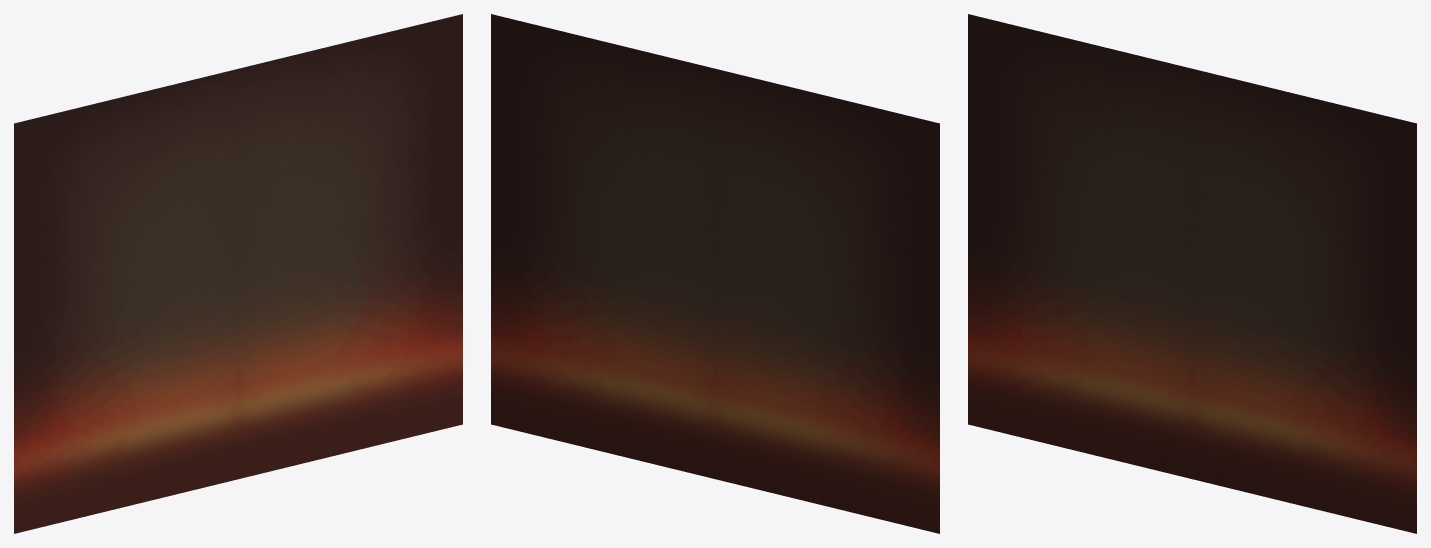
File: cs_zhucheng_jiuguanmen_001.FBX
3 views of the same model, side by side, from view 1: azimuth 30°, elevation 25°; view 2: azimuth 150°, elevation 25°; view 3: azimuth 330°, elevation 25° (orthographic).
Visible parts, largest first — view 1: cs_zhucheng_jiuguanmen_001; view 2: cs_zhucheng_jiuguanmen_001; view 3: cs_zhucheng_jiuguanmen_001.
Part boxes in pixels (box(x1,y1,x2,y2)): cs_zhucheng_jiuguanmen_001: box(14, 14, 462, 533); cs_zhucheng_jiuguanmen_001: box(491, 14, 939, 533); cs_zhucheng_jiuguanmen_001: box(968, 14, 1416, 533).
Bounding box in the file's own units: 157 × 5.21e-06 × 137.
